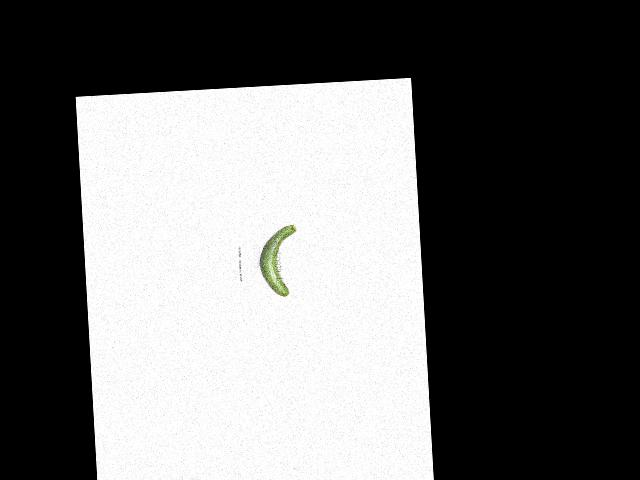cucumber: (257, 224, 300, 297)
